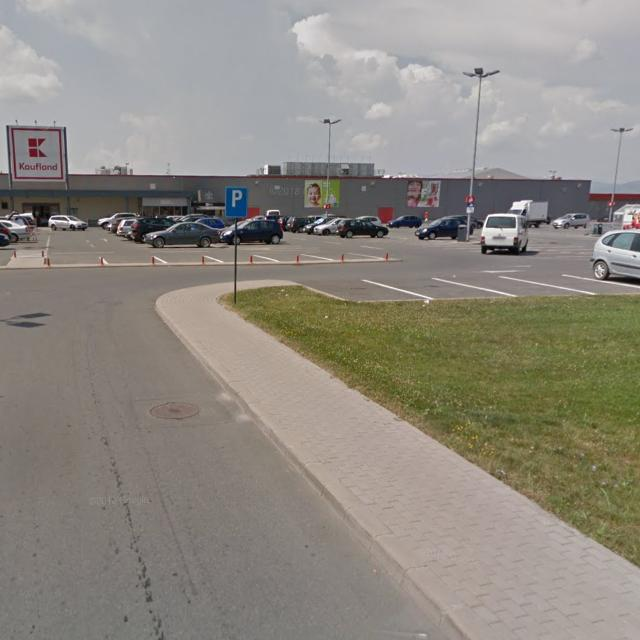info_parking: (225, 186, 248, 218)
